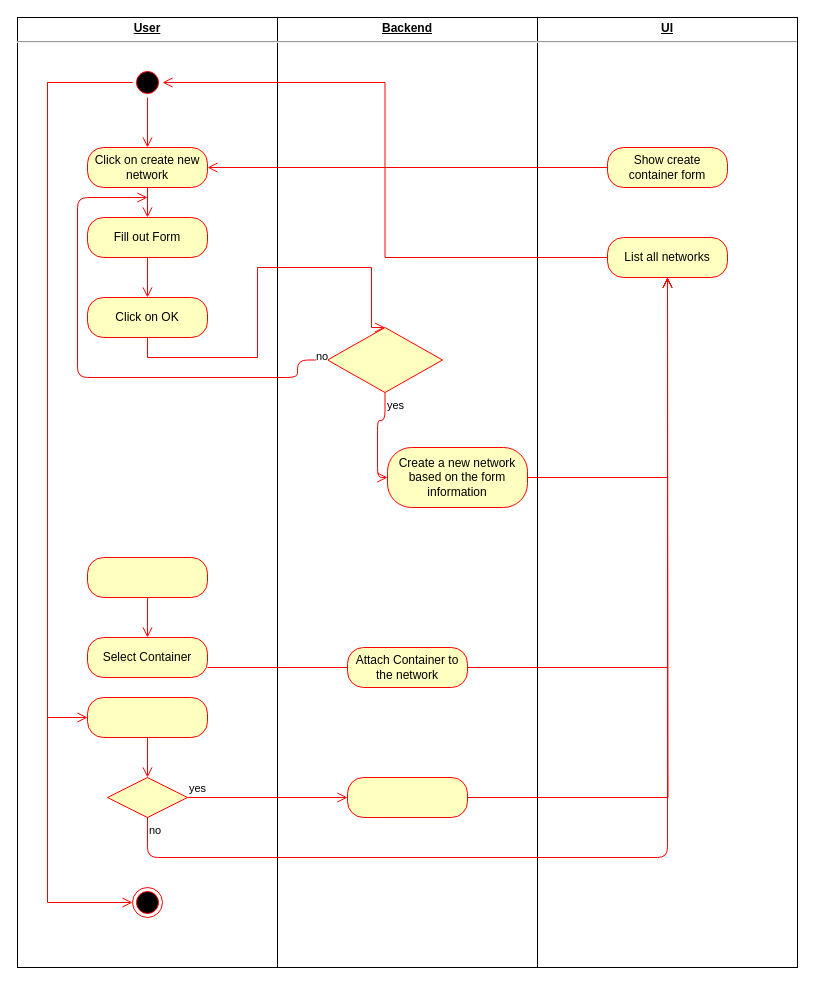
This 815x985 diagram has some shape labels left out. The shapes that lost their labels are listed below. From the top down, each one's centre as x and y in pixels, then its label:
At (x=384, y=359): "User input is valid?".
At (x=147, y=577): "Click on attach container button".
At (x=147, y=717): "Click on delete".
At (x=147, y=797): "Confirm".
At (x=407, y=797): "Delete the Network".
